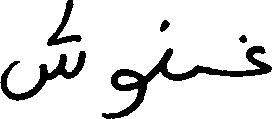X: (0, 0, 83, 105), (111, 64, 145, 118), (246, 33, 271, 80), (161, 15, 172, 84)
